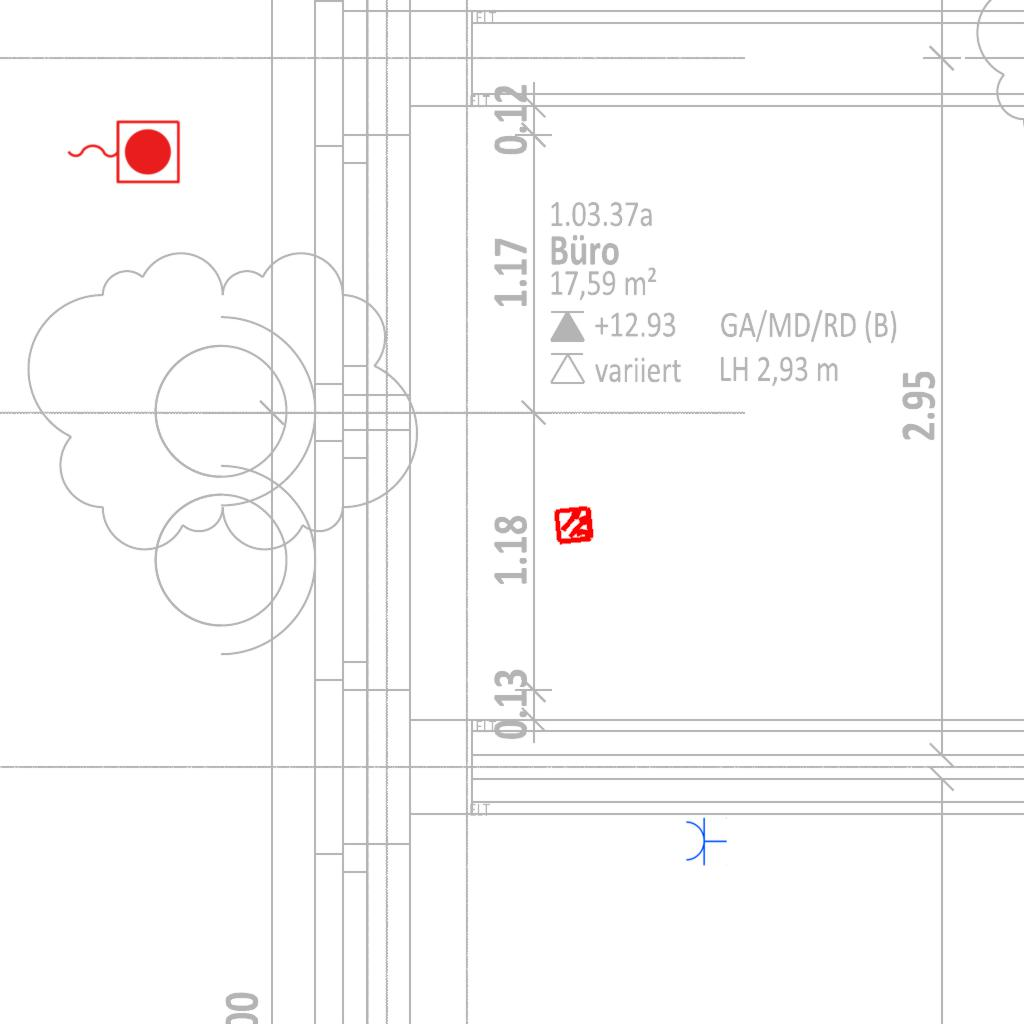OT_Multisensormelder_(Kombination_RMO_WMD): (544, 494, 606, 556)
Schukosteckdose_einfach: (684, 816, 727, 866)
Zugtaster: (62, 115, 184, 187)
